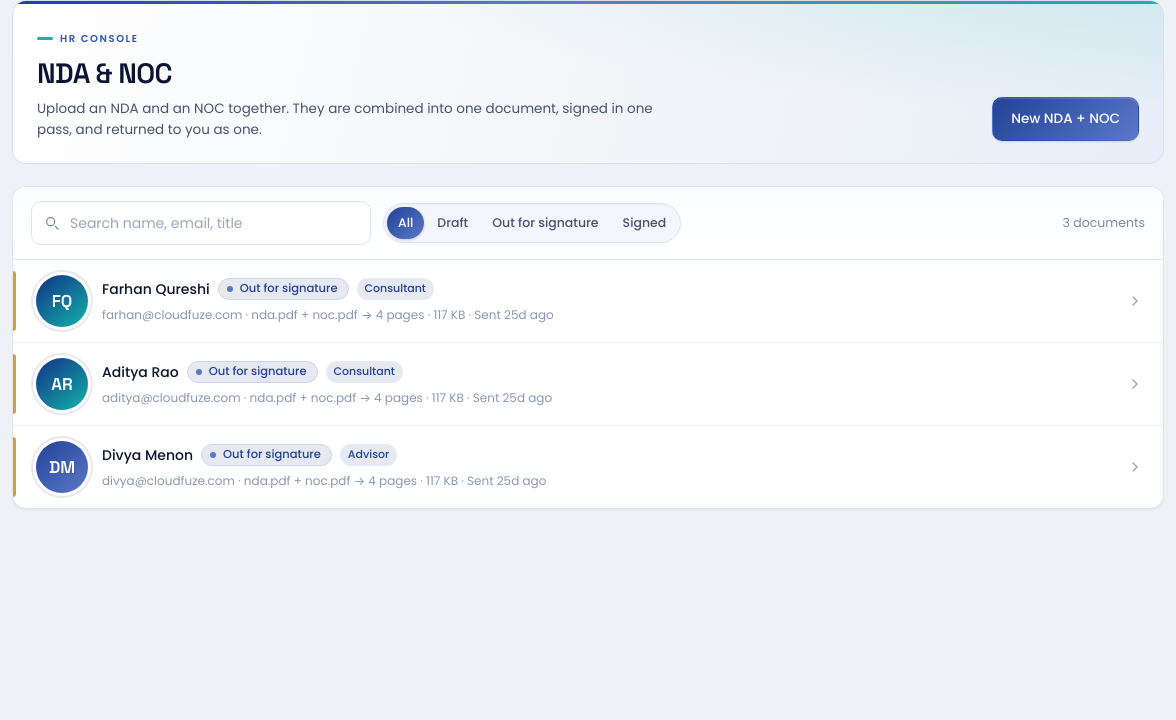
Test: NocPage search › narrows the list to the name typed
Check: the text "Aditya Rao" is shown, box [102,361,179,383]
Step 1. Type "Farhan" into the field named "Search NDA and NOC documents" → (201, 223), box [31,201,371,245]
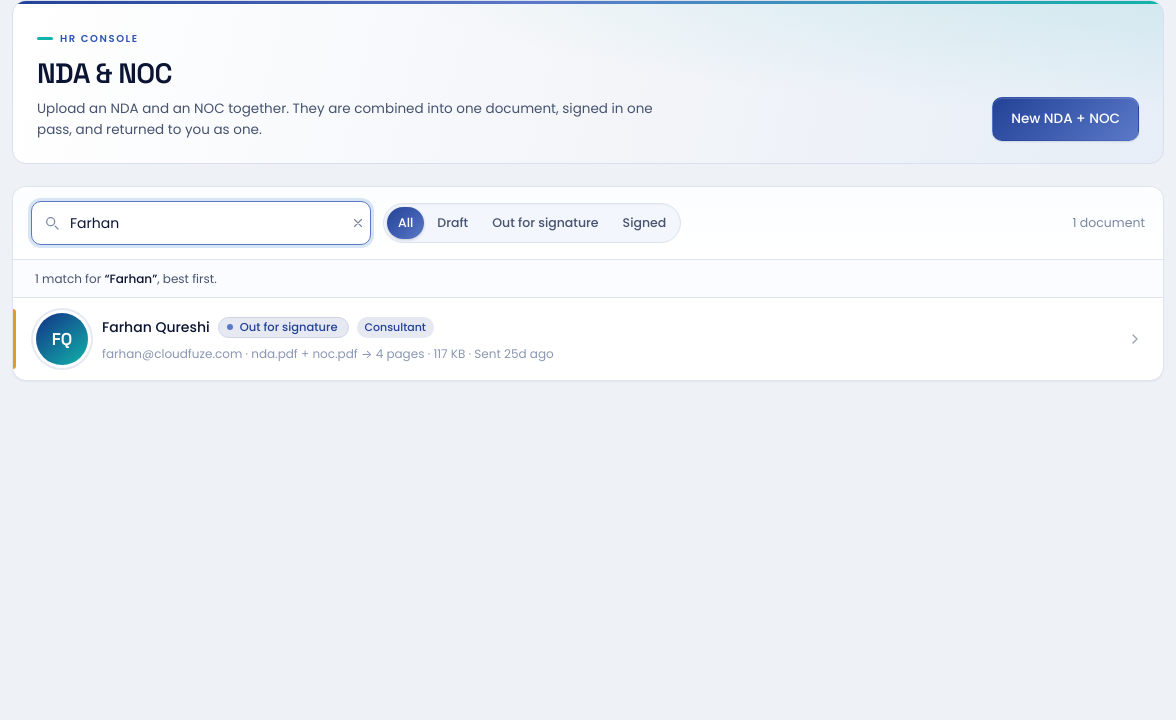
Check: the text "Farhan Qureshi" is shown, box [102,316,210,338]
Check: the button "Aditya Rao" is gone
